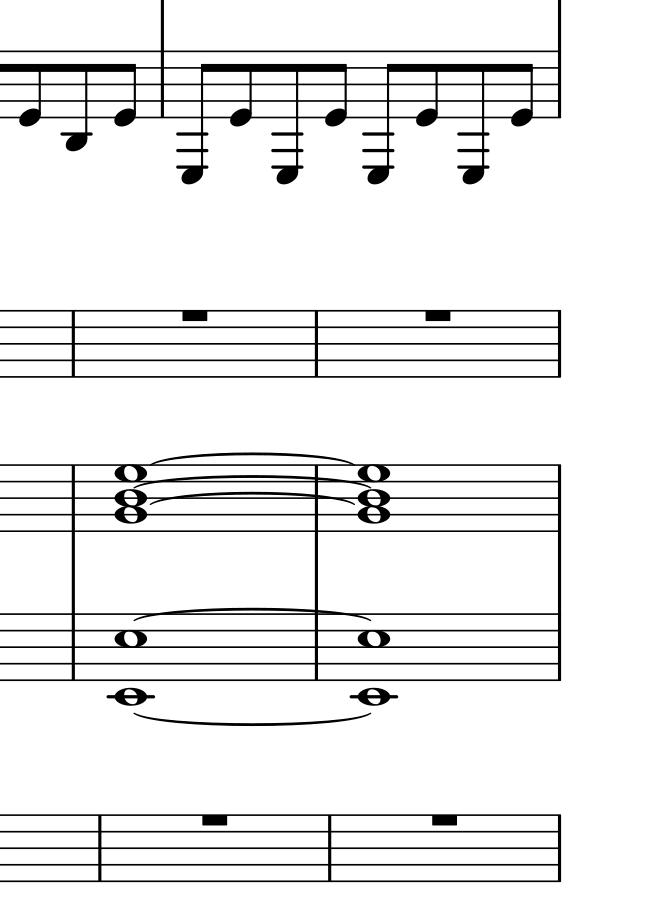1_-2_5: (105, 612, 156, 708), (349, 611, 400, 707)
1_th: (112, 461, 150, 535), (358, 464, 392, 534)
8_-3: (63, 49, 92, 153)
8_-7: (363, 49, 404, 186), (178, 49, 214, 184), (459, 49, 490, 187), (272, 49, 302, 187)
8_0: (413, 48, 443, 131), (227, 49, 255, 128), (323, 48, 350, 129), (508, 48, 535, 128), (113, 49, 139, 131), (19, 49, 46, 126)
Rests1: (196, 808, 234, 829), (178, 306, 216, 325), (422, 303, 453, 324), (425, 811, 463, 828)
Single_barline: (551, 462, 568, 536), (66, 462, 83, 536), (551, 813, 568, 884), (550, 611, 567, 681), (308, 309, 324, 379), (309, 461, 324, 535), (155, 51, 171, 120), (550, 309, 566, 378), (322, 814, 336, 884), (67, 309, 81, 379), (93, 814, 107, 881), (553, 48, 566, 119), (68, 611, 80, 683), (308, 614, 323, 671)
Slur: (131, 605, 375, 623), (134, 713, 373, 728), (134, 476, 371, 490), (148, 450, 361, 464), (150, 491, 357, 505)
